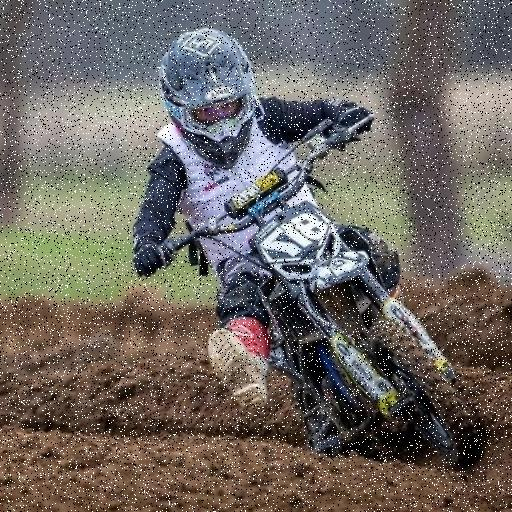Helmet: (160, 28, 255, 168)
